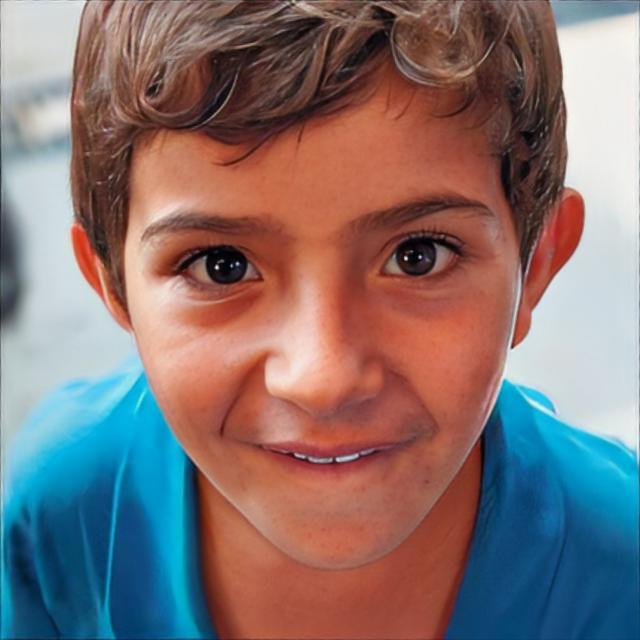happy: (122, 88, 516, 572)
